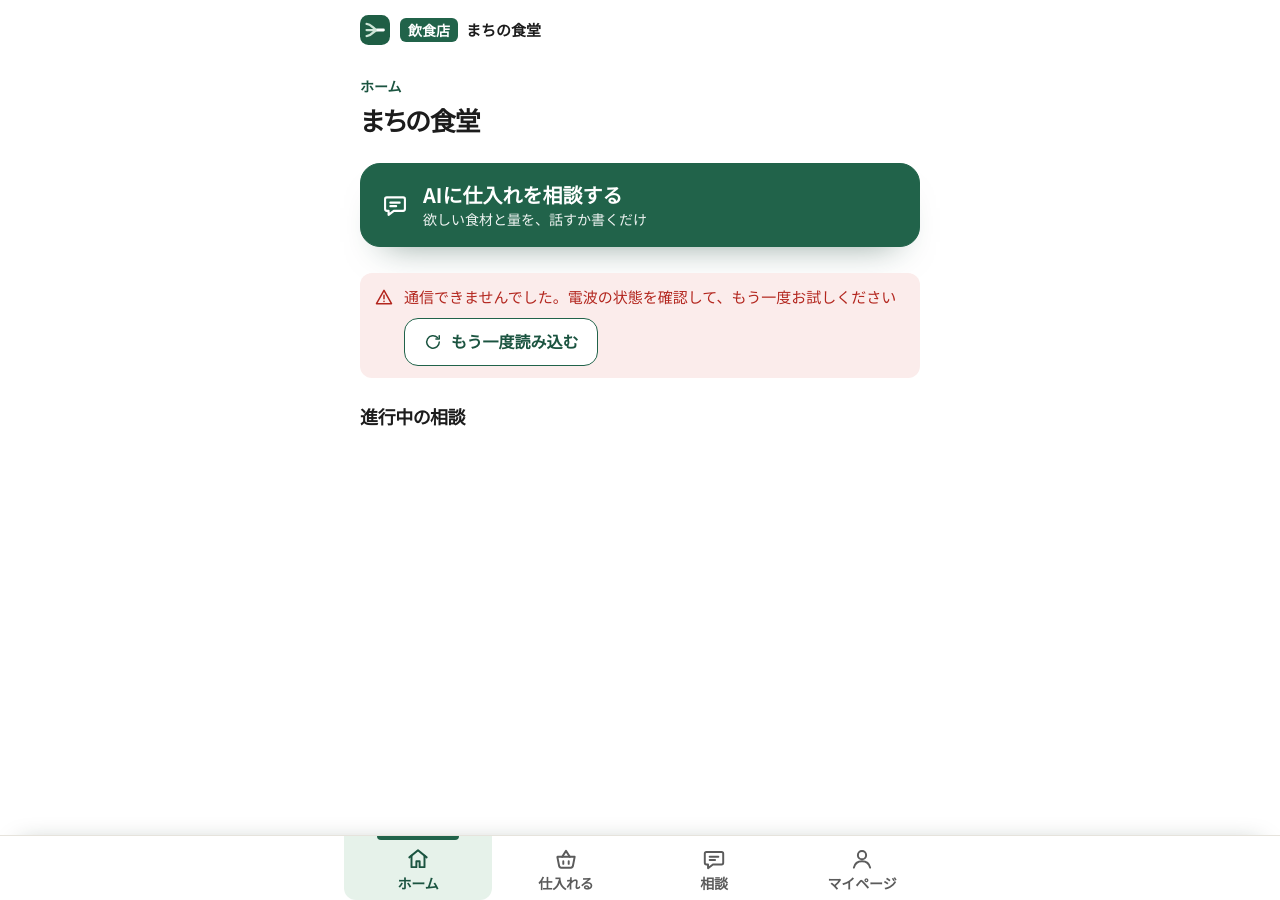
Test case: エラーのときの表示（技術用語や HTTP の番号だけを出さない） › 通信できない：日本語の説明と「もう一度読み込む」。押すと読み直して表示が戻る
Click the button "もう一度読み込む". click: [501, 342]
box: [404, 318, 598, 366]
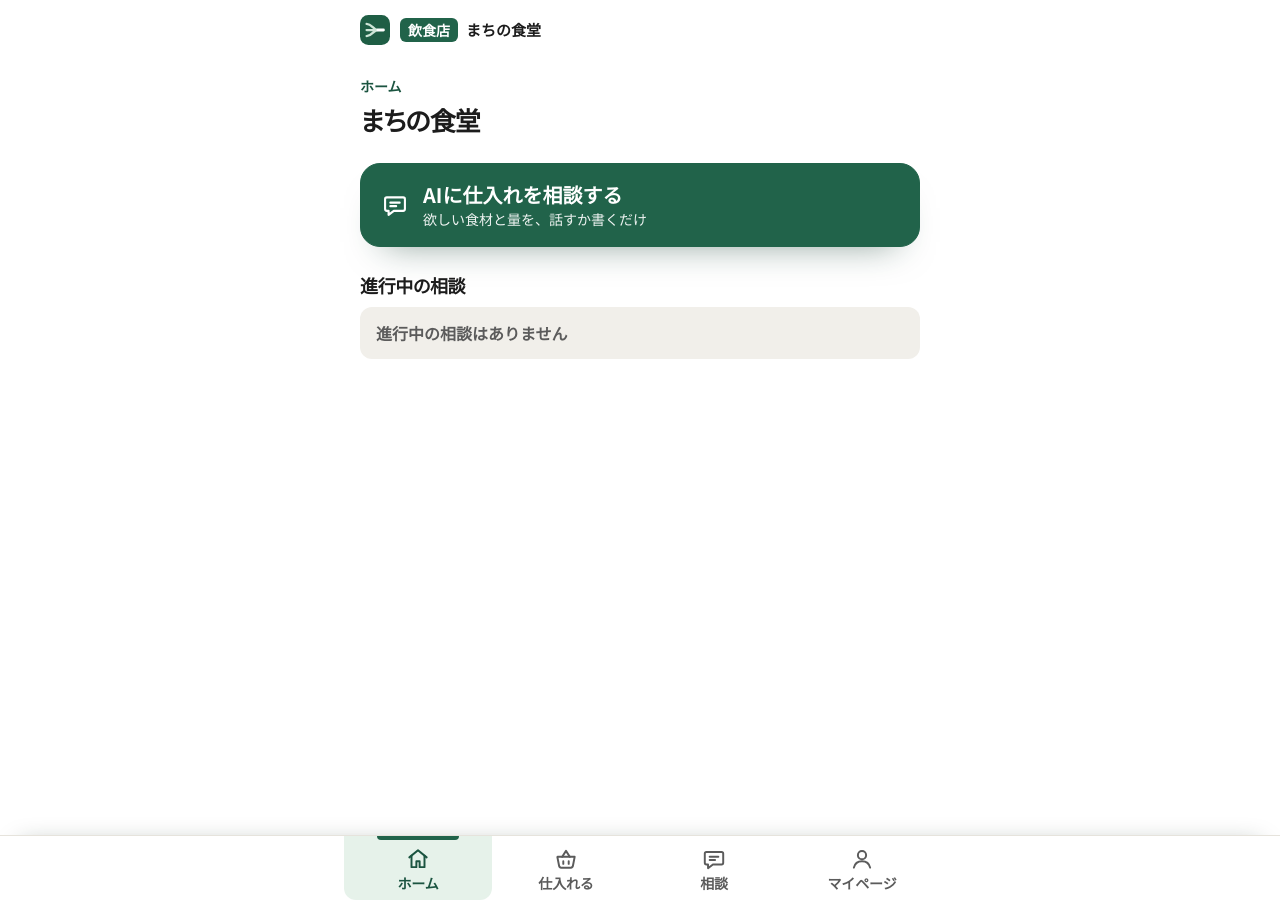
expect the text "進行中の相談はありません" is shown: met, box [360, 307, 920, 359]
expect the message with class "error-retry" is gone: met
